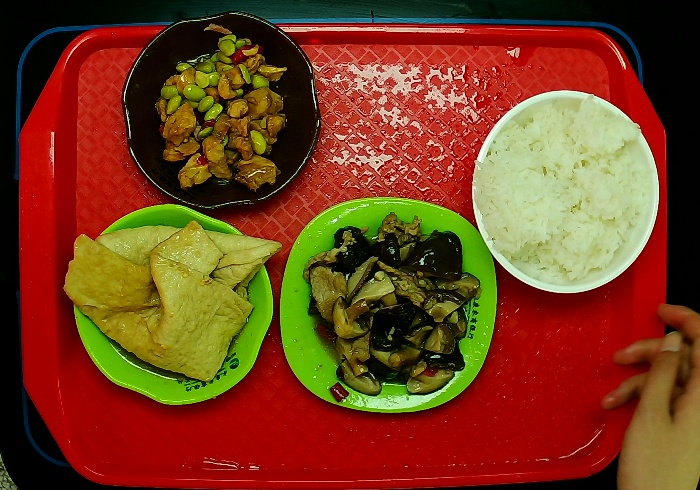YKMZ-Fan_Wan: (468, 90, 661, 297)
YKMZ-Ka_Fei_Ao_Bian_Wan: (123, 11, 321, 207)
YKMZ-Lv_Se_Ao_Bian_Wan: (69, 204, 277, 407)
YKMZ-Lv_Se_Fang_Die: (279, 195, 501, 416)
